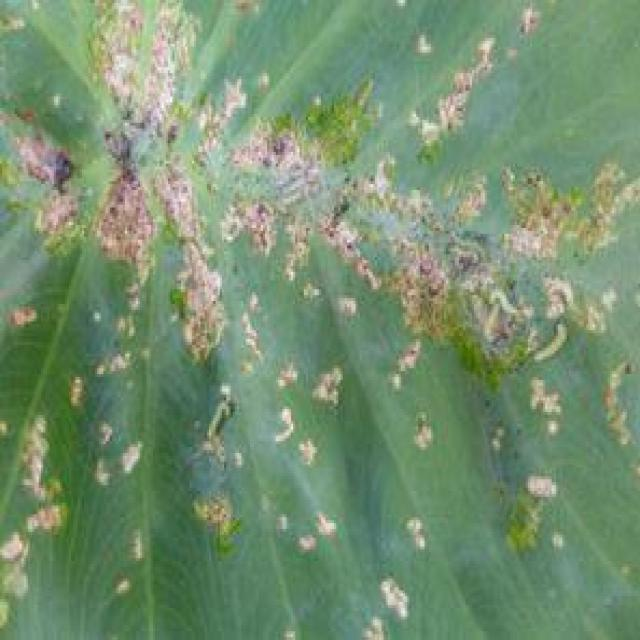BeetArmyWorm-Larva-: (530, 318, 576, 371), (202, 398, 236, 448), (487, 286, 525, 318), (483, 302, 504, 345)
